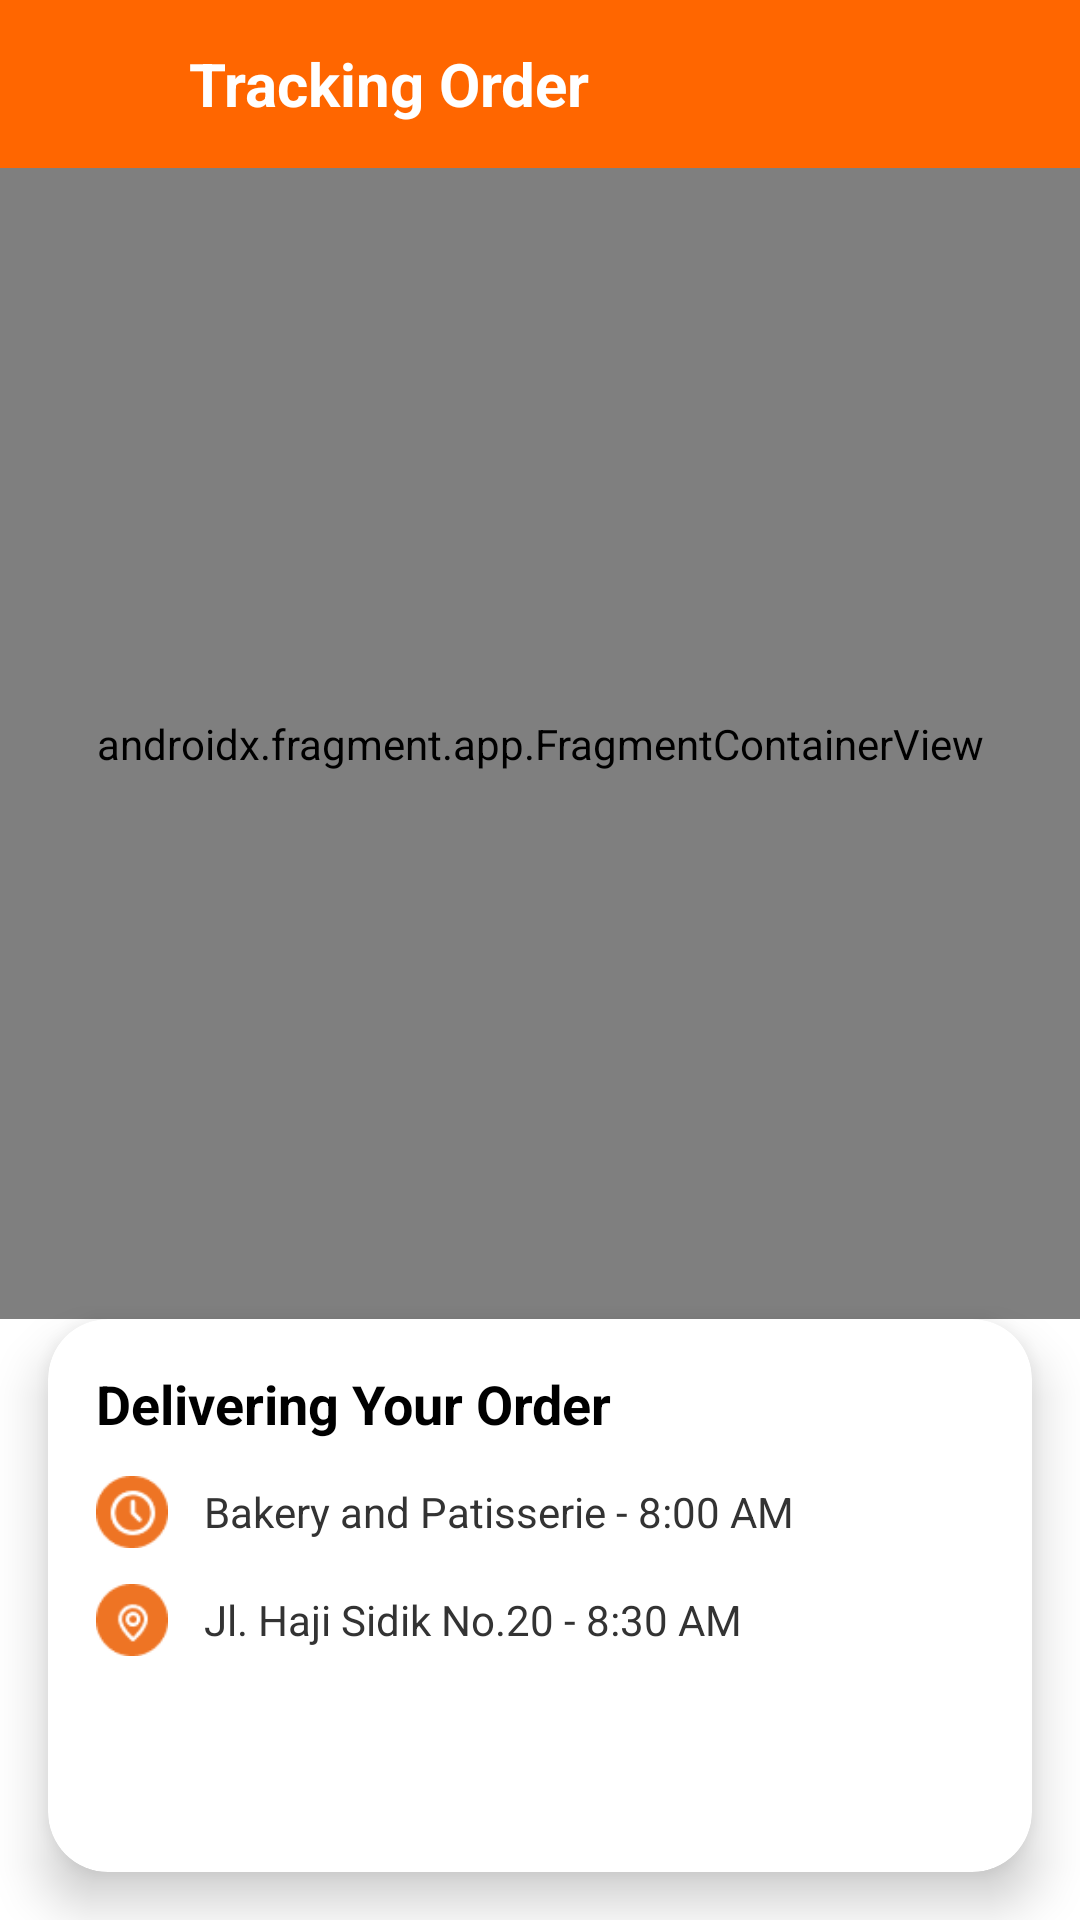

Icon bounding boxes for this 1080 × 1920 phone screenshot, format (x1, y1, x2, y2):
pin: (96, 1584, 168, 1656)
time: (96, 1476, 168, 1548)
